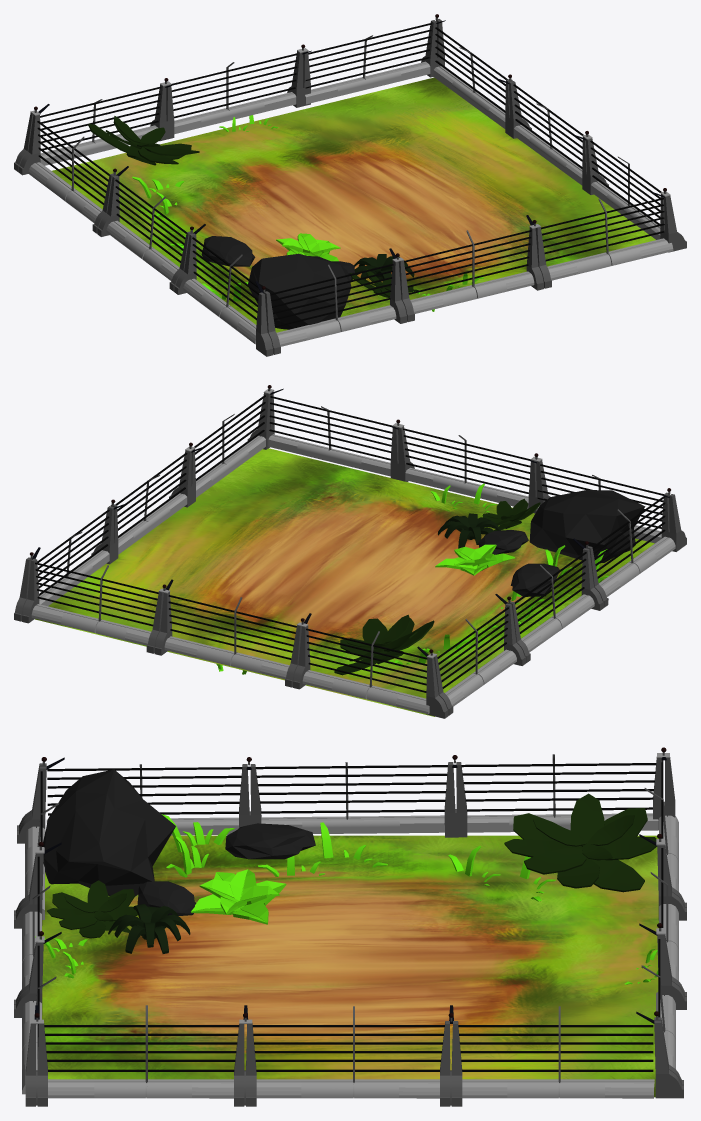
Rendered from Cage_3.fbx.
The picture shows the model from 3 angles, top to bottom: view 1: azimuth 30°, elevation 25°; view 2: azimuth 150°, elevation 25°; view 3: azimuth 270°, elevation 25°; orthographic projection. The views are drawn at different scales.
Parts seen in each view (by area): view 1: Cage_3; view 2: Cage_3; view 3: Cage_3.
Part boxes in pixels (x1,y1,x2,y2): Cage_3: (14,14,686,356); Cage_3: (14,385,686,718); Cage_3: (14,747,686,1106).
Size of the model in its own units: 22.2 by 4.52 by 22.52.
